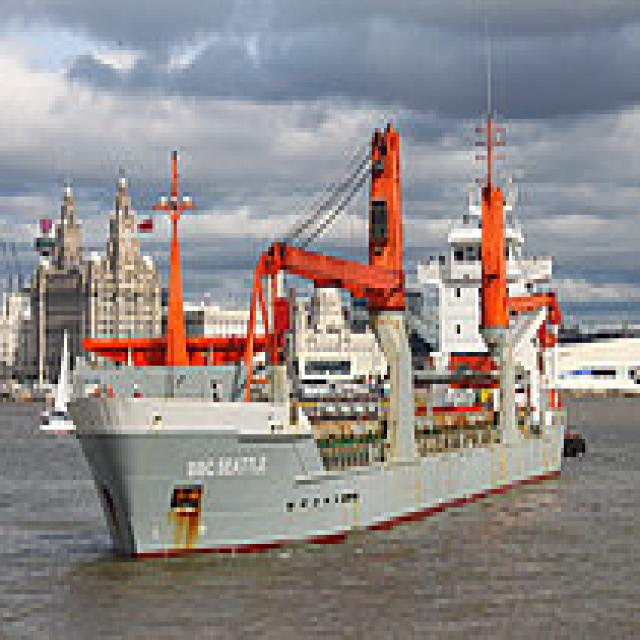Cargo: (61, 110, 564, 558)
